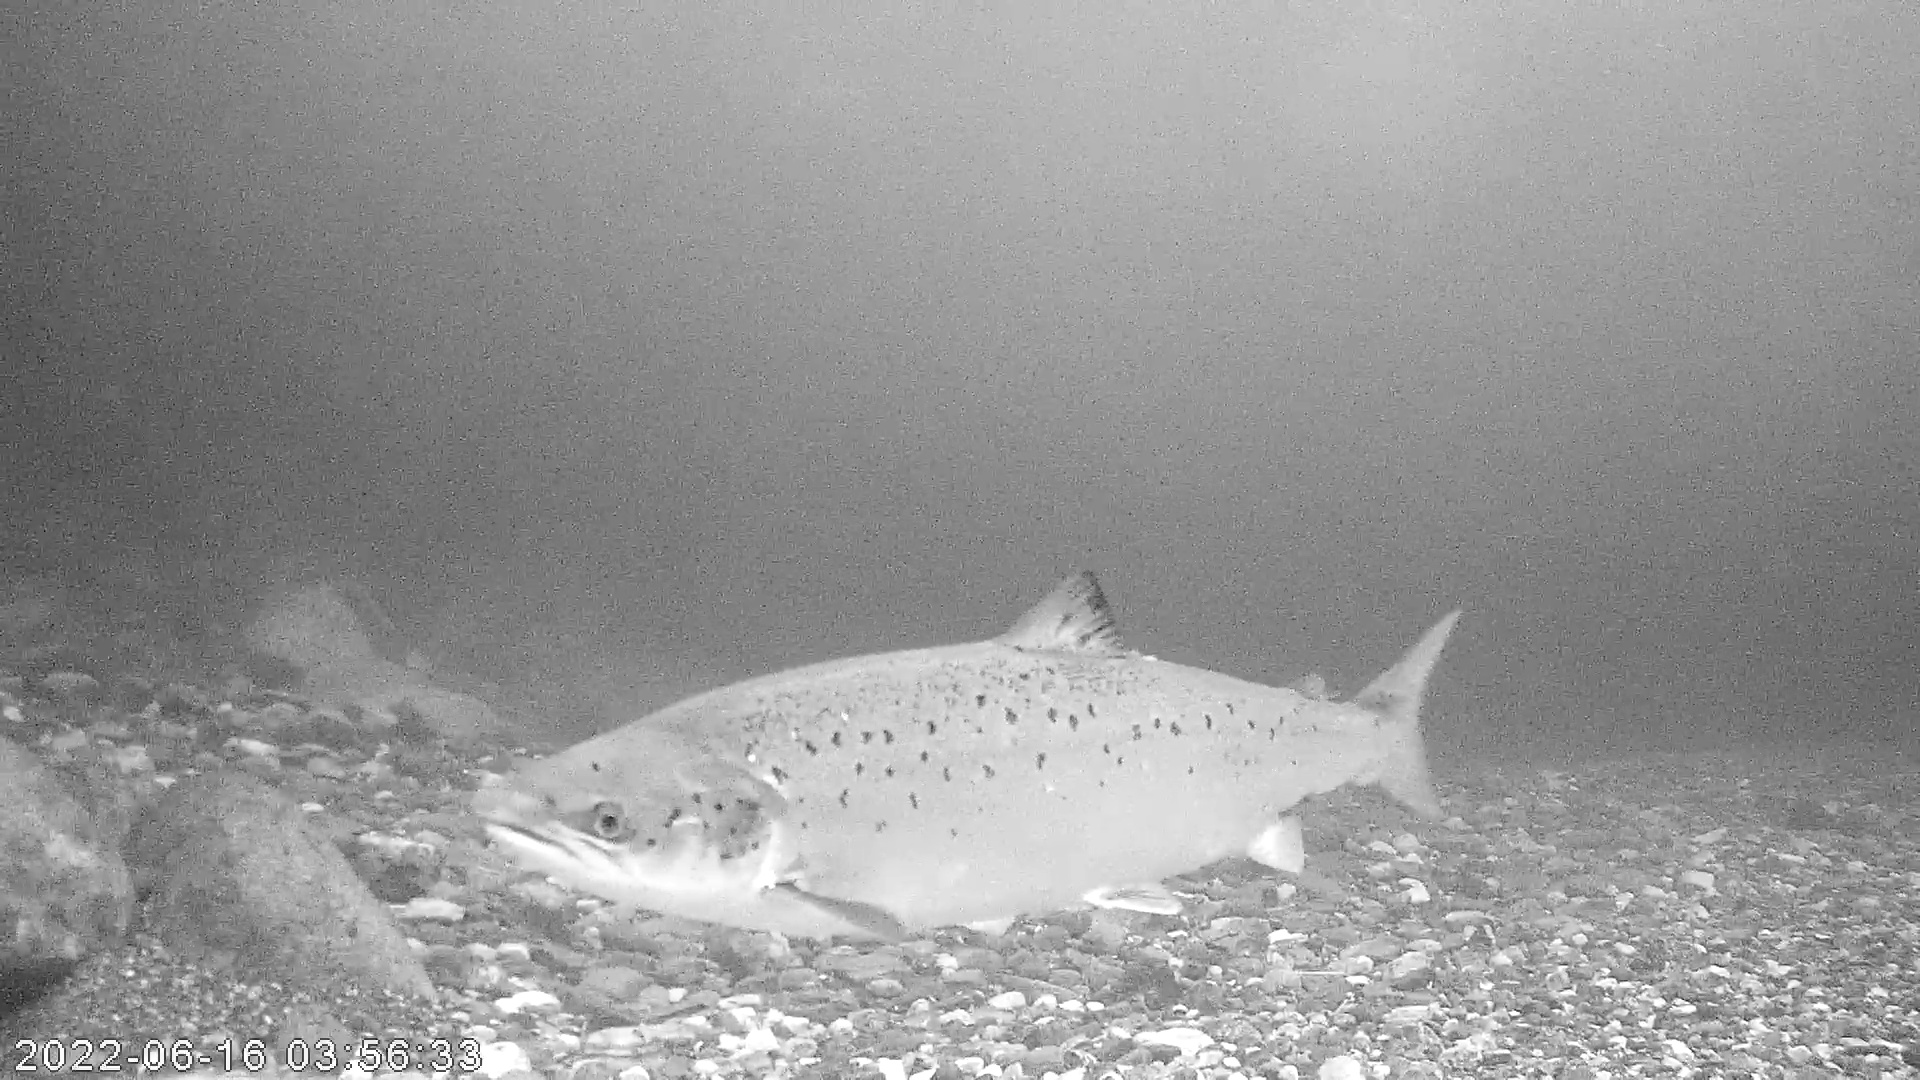salmon: (467, 564, 1462, 938)
